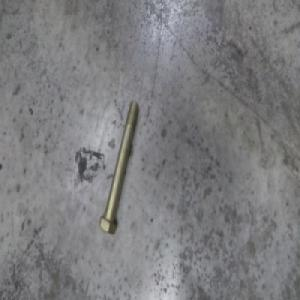Bolt: (98, 104, 139, 237)
